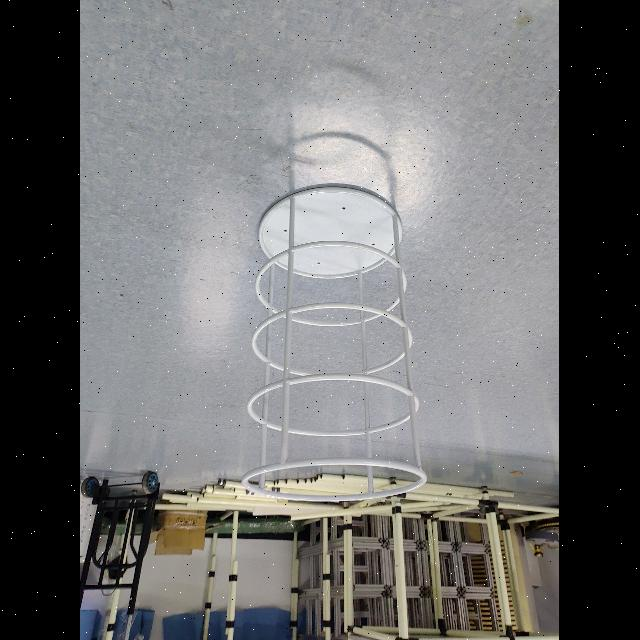S: (238, 180, 432, 506)
